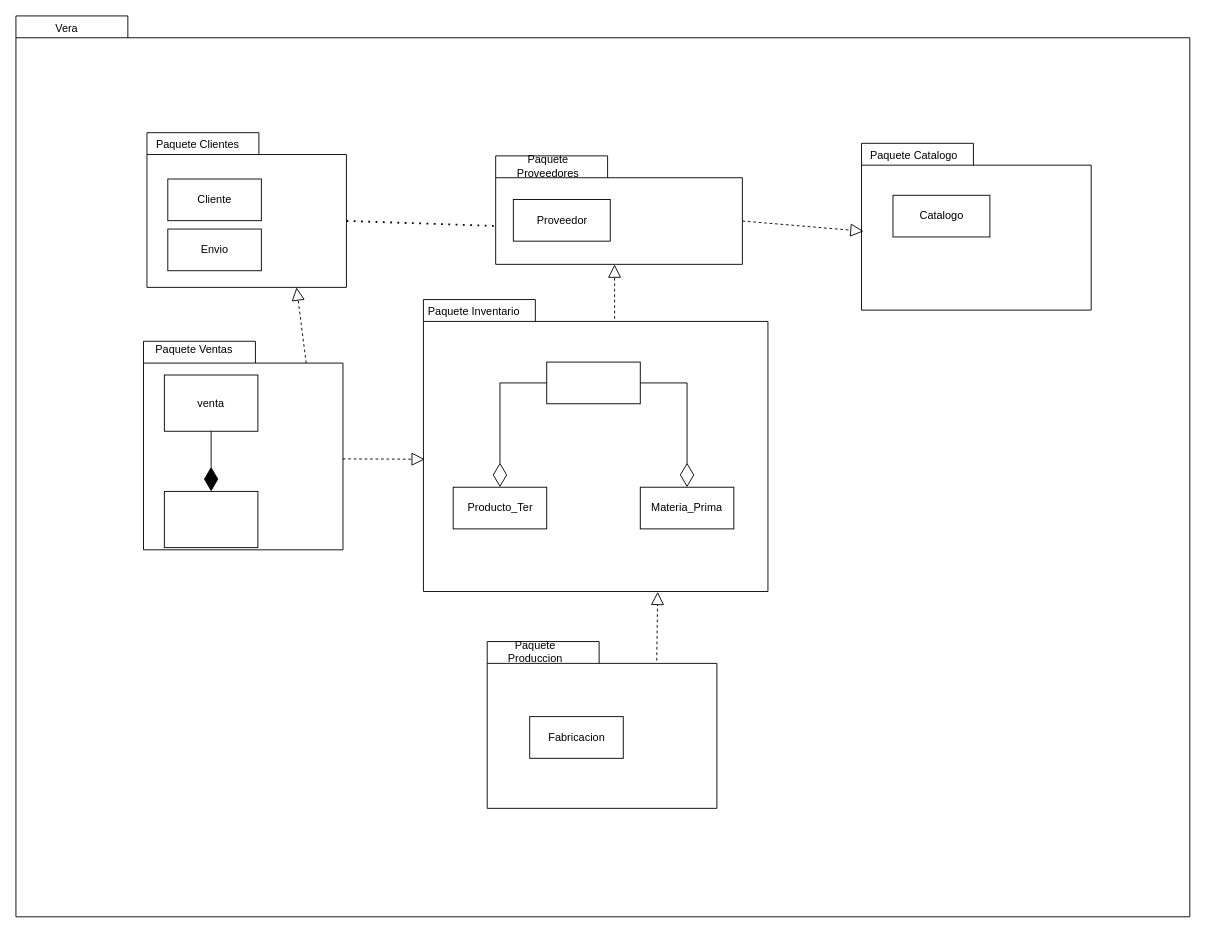
This 1206x933 diagram has some shape labels left out. The centre of each missing label's shape, as x and y in pixels:
Fact_Venta: (x=210, y=519)
Inventario: (x=593, y=382)
